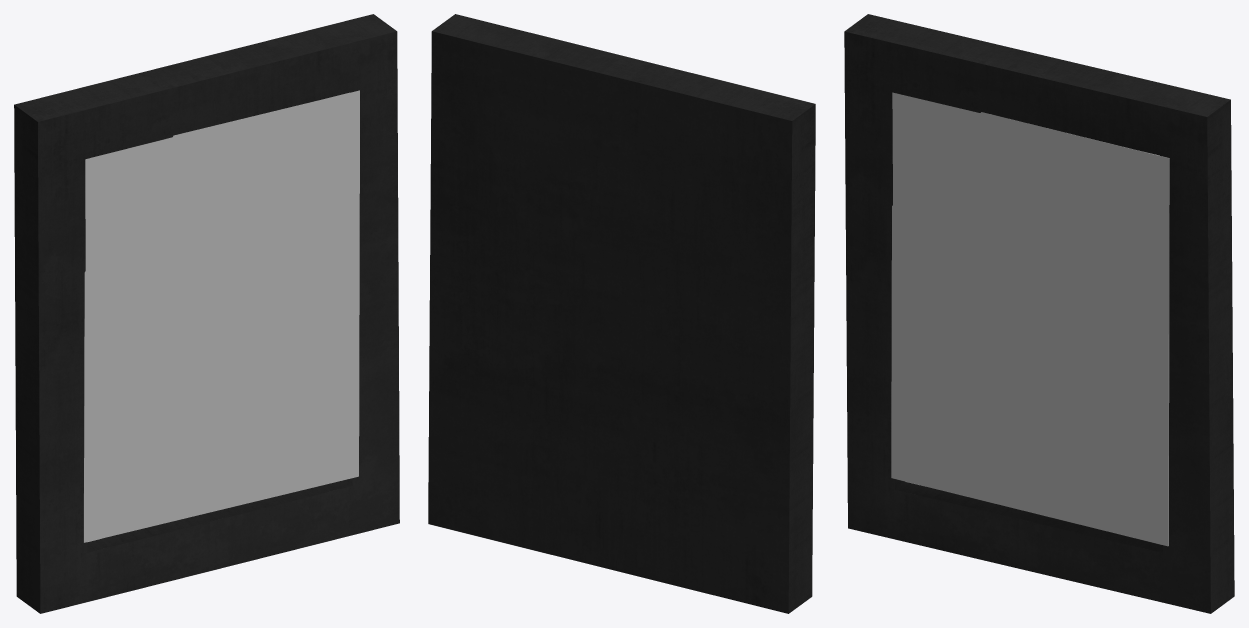
The model's file is Kaigamdl_2.fbx.
3 views of the same model, side by side, from view 1: azimuth 30°, elevation 25°; view 2: azimuth 150°, elevation 25°; view 3: azimuth 330°, elevation 25° (orthographic).
Visible parts, largest first — view 1: Kaiga2; view 2: Kaiga2; view 3: Kaiga2.
Part boxes in pixels (bbox=[...]): Kaiga2: bbox=[14, 14, 399, 613]; Kaiga2: bbox=[428, 14, 815, 613]; Kaiga2: bbox=[844, 14, 1234, 613].
Size of the model in its own units: 62.12 by 81.04 by 7.31.
